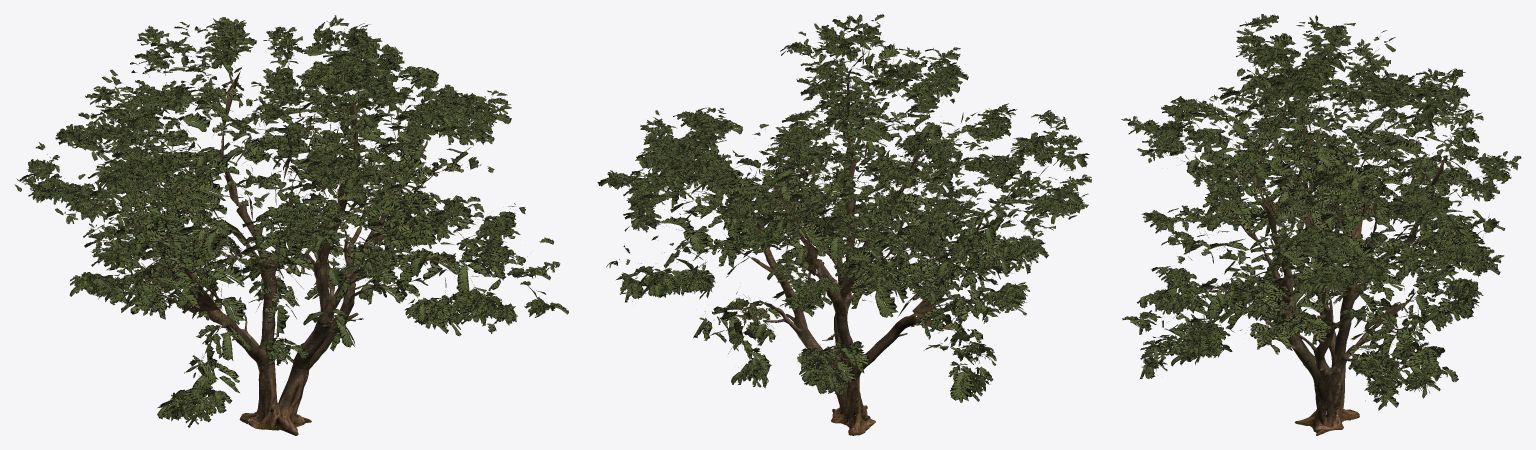
File: tree.gltf
3 renders of one model, left to right at view 1: azimuth 30°, elevation 25°; view 2: azimuth 150°, elevation 25°; view 3: azimuth 270°, elevation 25°, orthographic. The views are drawn at different scales.
Visible parts, largest first — view 1: jacaranda_tree_LOD0; view 2: jacaranda_tree_LOD0; view 3: jacaranda_tree_LOD0.
Part boxes in pixels (box(x1,y1,x2,y2)): jacaranda_tree_LOD0: box(14, 15, 568, 435); jacaranda_tree_LOD0: box(597, 14, 1091, 435); jacaranda_tree_LOD0: box(1121, 14, 1521, 435).
Size of the model in its own units: 24.29 by 19.5 by 18.9.
3 materials, 3 textured.
